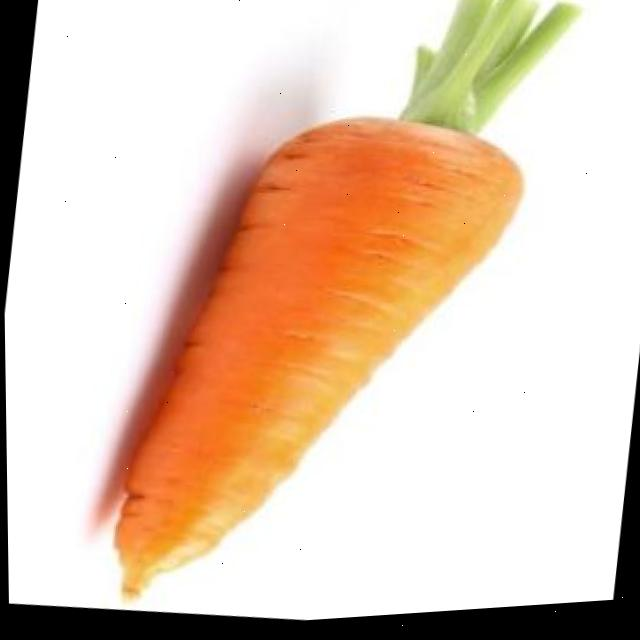Wet: (54, 45, 572, 637)
